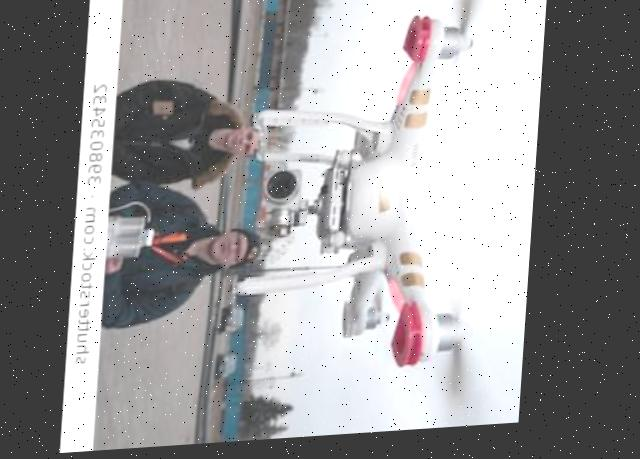drone: (222, 0, 549, 446)
